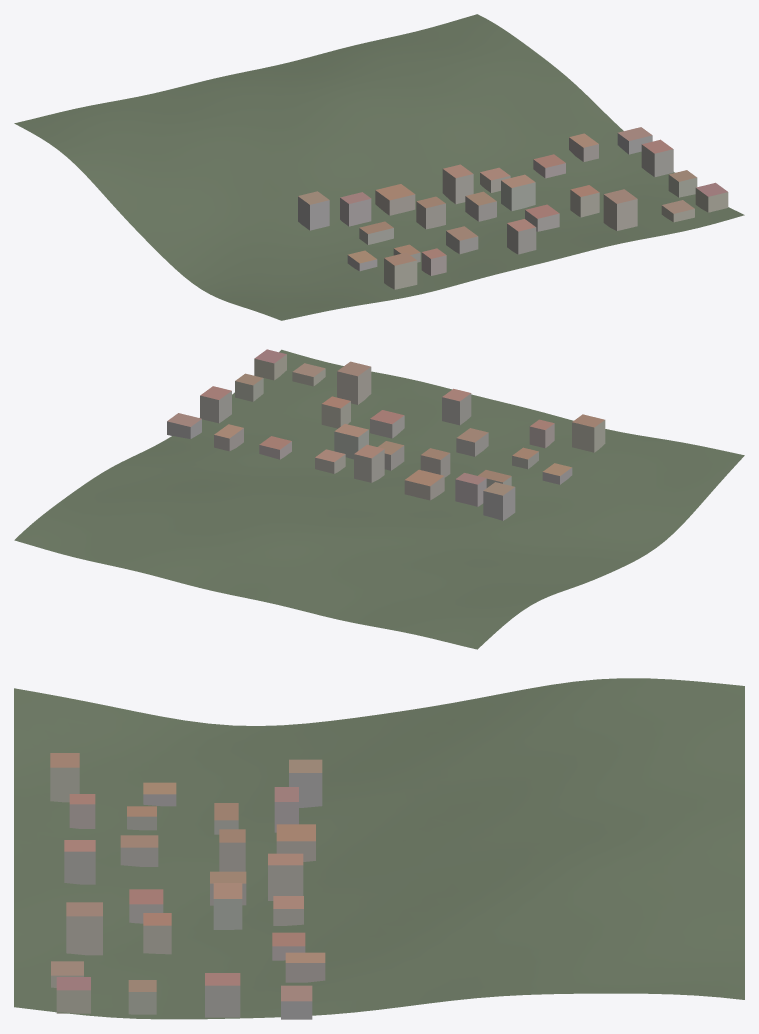
The picture shows the model from 3 angles, top to bottom: view 1: azimuth 30°, elevation 25°; view 2: azimuth 150°, elevation 25°; view 3: azimuth 270°, elevation 25°; orthographic projection. The views are drawn at different scales.
Size of the model in its own units: 304 by 27.23 by 300.
